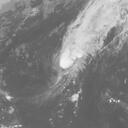cyclone: (60, 44, 86, 72)
